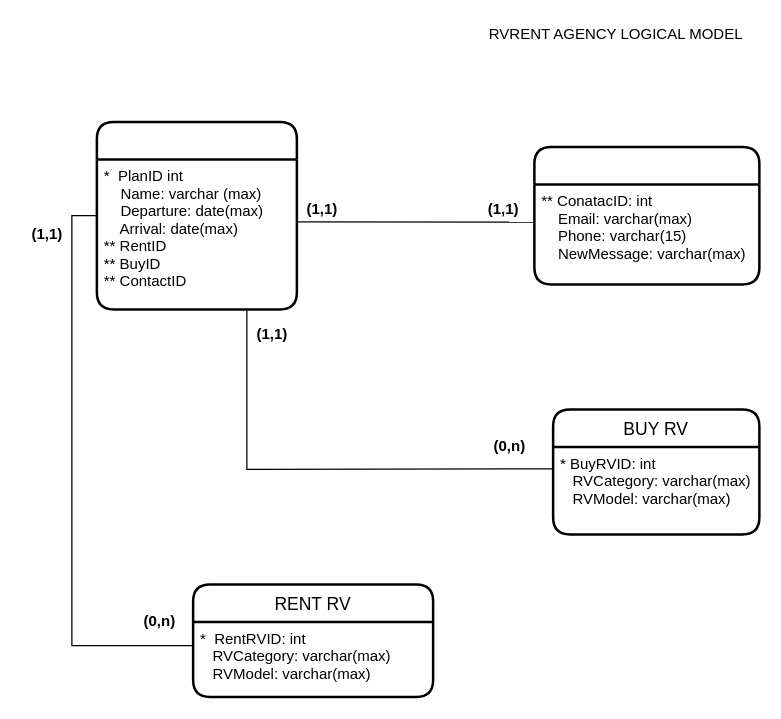
The diagram is 781 pixels wide and 719 high, and some of its shapes have lost their labels. The box of each missing label's shape, as (x1, y1, x2, y2) in pixels:
CONTCT US: (532, 145, 760, 285)
PLAN TRIP: (95, 120, 298, 310)
